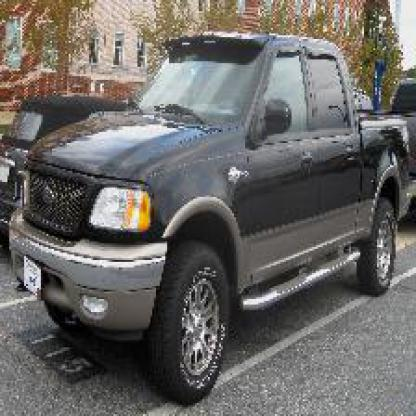not_emergency: (35, 35, 414, 364)
